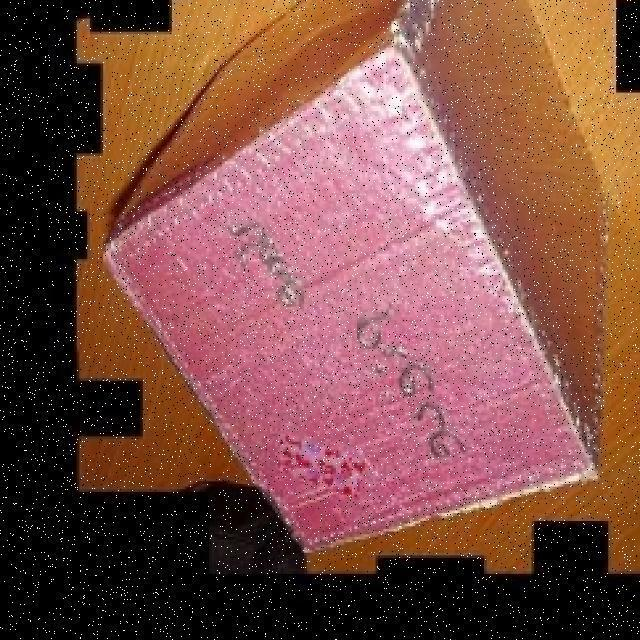box: (121, 0, 612, 582)
